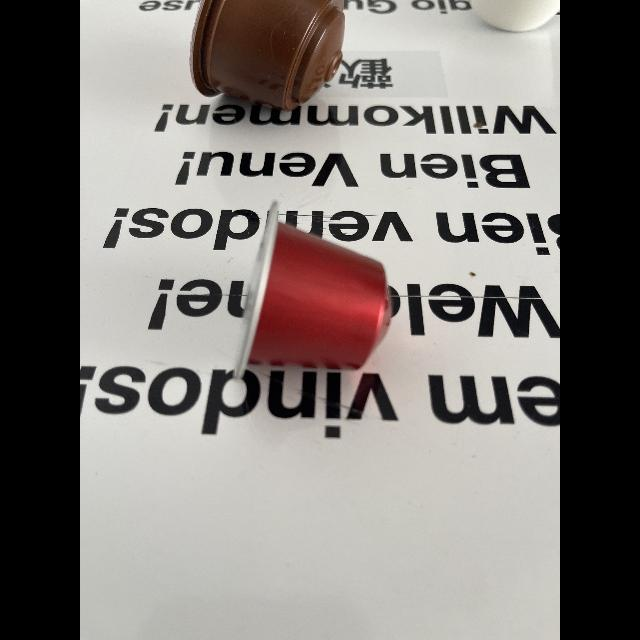intact_capsule: (228, 197, 402, 389), (182, 0, 358, 126)
